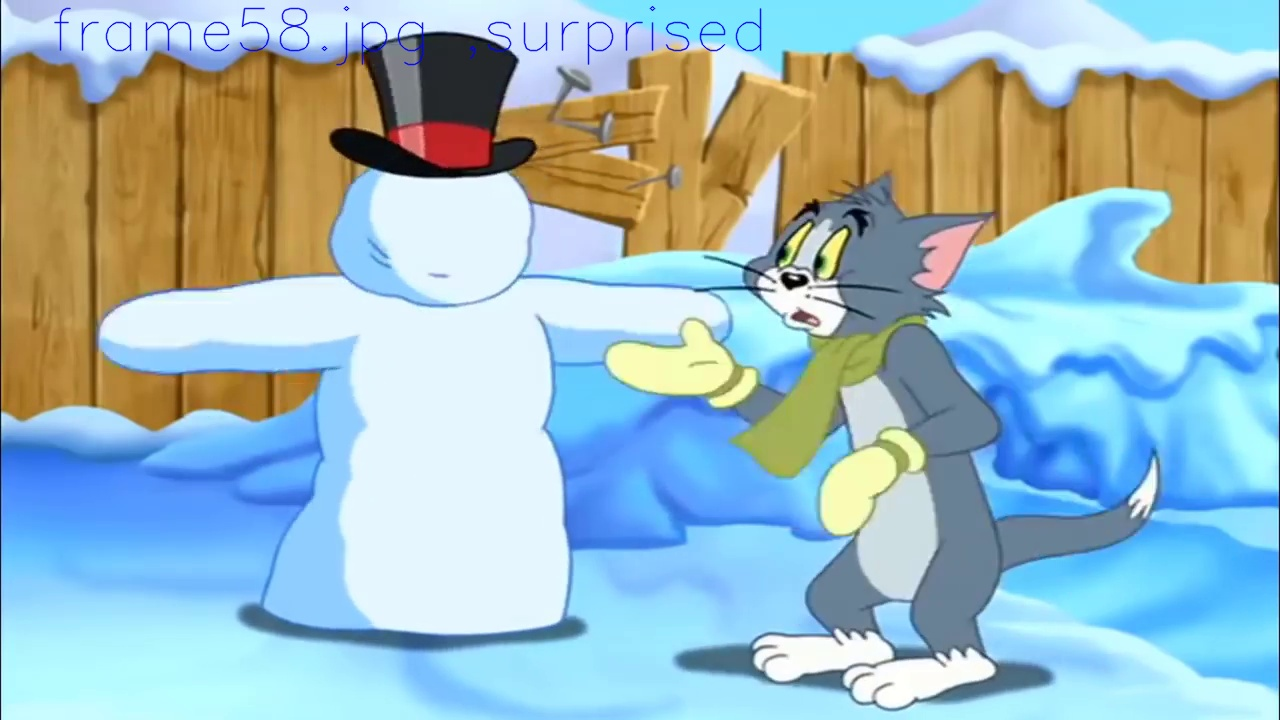surprised: (775, 200, 876, 335)
